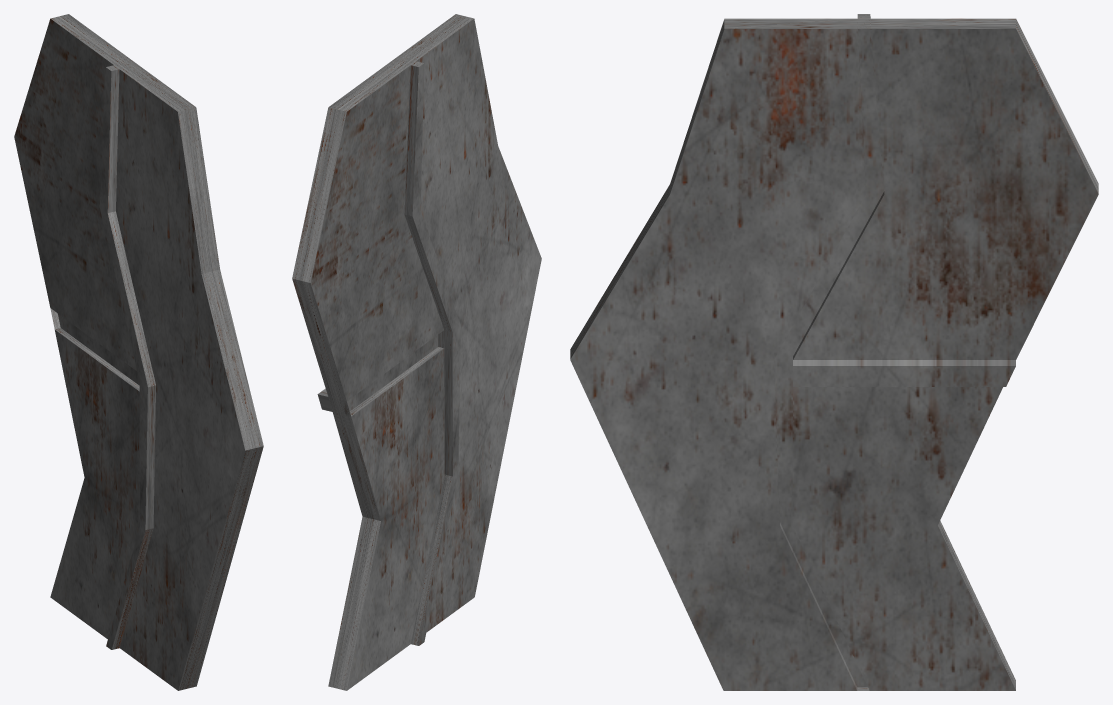
The model's file is door1.glb.
3 views of the same model, side by side, from view 1: azimuth 30°, elevation 25°; view 2: azimuth 150°, elevation 25°; view 3: azimuth 270°, elevation 25° (orthographic). The views are drawn at different scales.
Parts seen in each view (by area): view 1: Cube.023; view 2: Cube.023; view 3: Cube.023.
Boxes of the visible parts, box(x1,y1,x2,y2) form: Cube.023: box(14, 14, 263, 690); Cube.023: box(292, 14, 541, 690); Cube.023: box(570, 14, 1098, 690).
Bounding box in the file's own units: 0.4093 × 6.05 × 4.38.
1 material, 1 textured.
